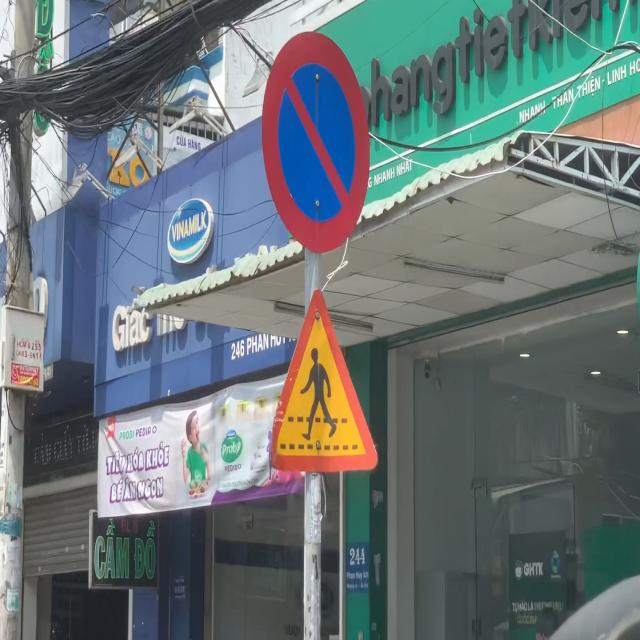Cam do: (261, 29, 371, 255)
Nguoi di bo cat ngang: (268, 287, 379, 476)
